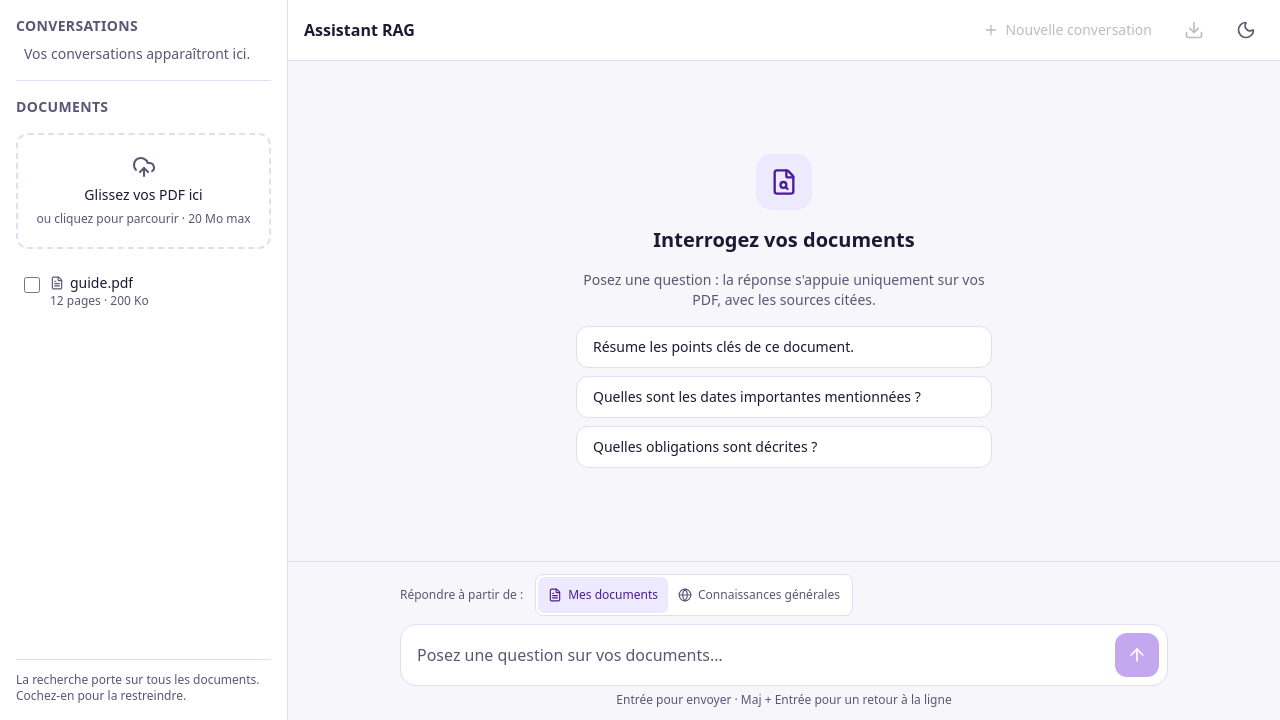
Test: App › restricts the search to the checked documents
The image size is (1280, 720).
Later steps or results of the test are not shown.
Click the checkbox named "Limiter la recherche à guide.pdf" at (32, 285), box [24, 277, 40, 293]
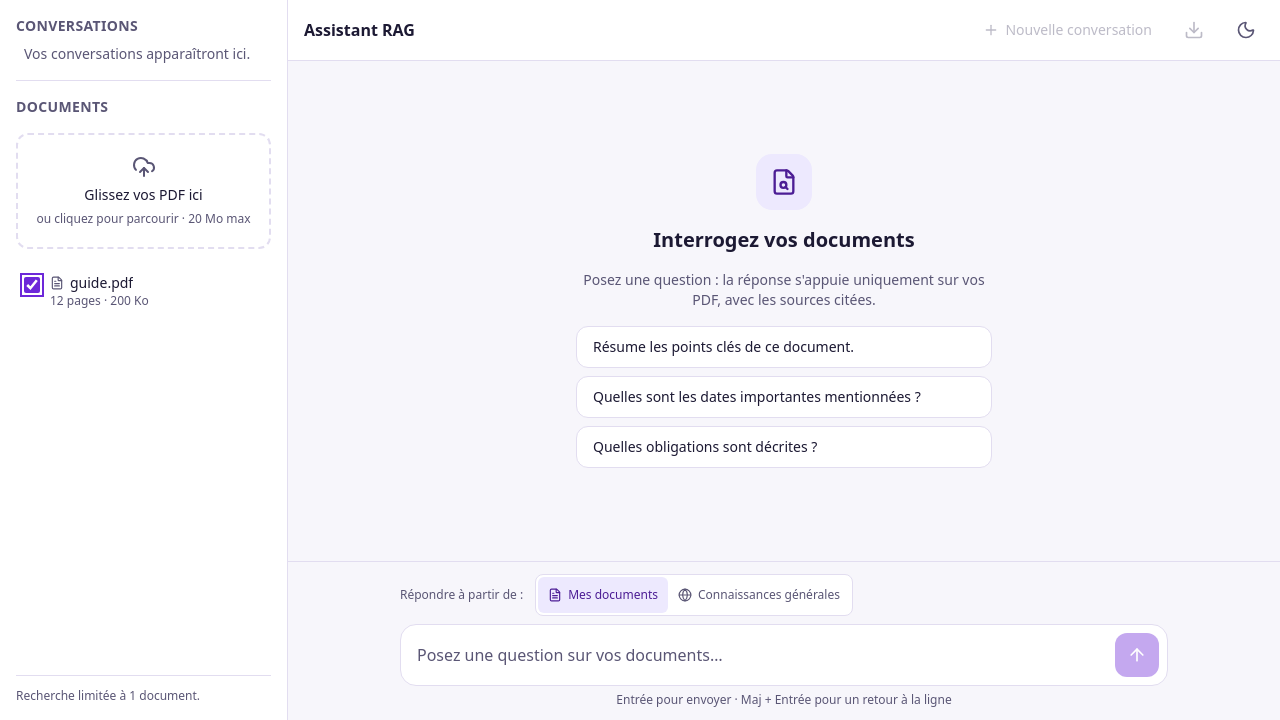
Expected: the text "Recherche limitée à 1 document." is shown, [16, 675, 271, 704]
